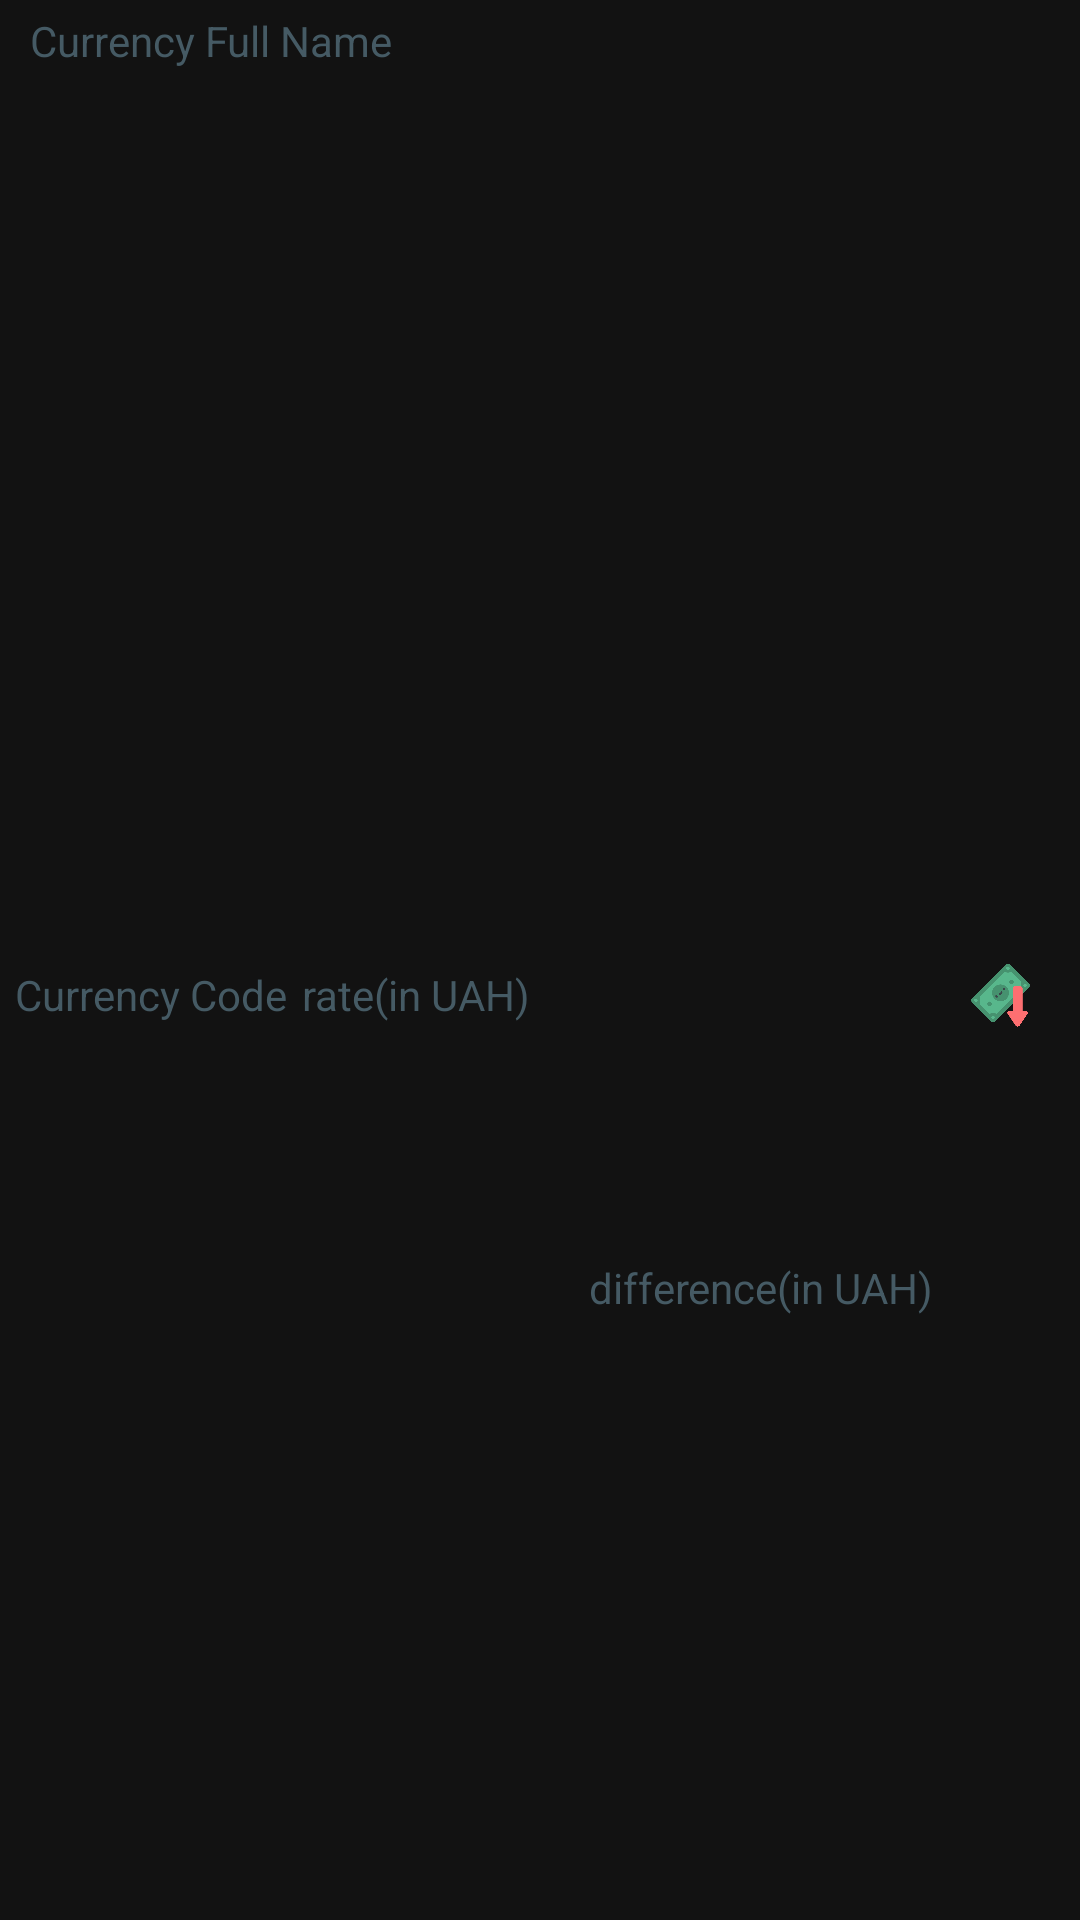

Named icons in this screenshot (1080*1920) and their bounding boxes, (x1, y1, x2, y2):
decrease: (971, 964, 1030, 1027)
